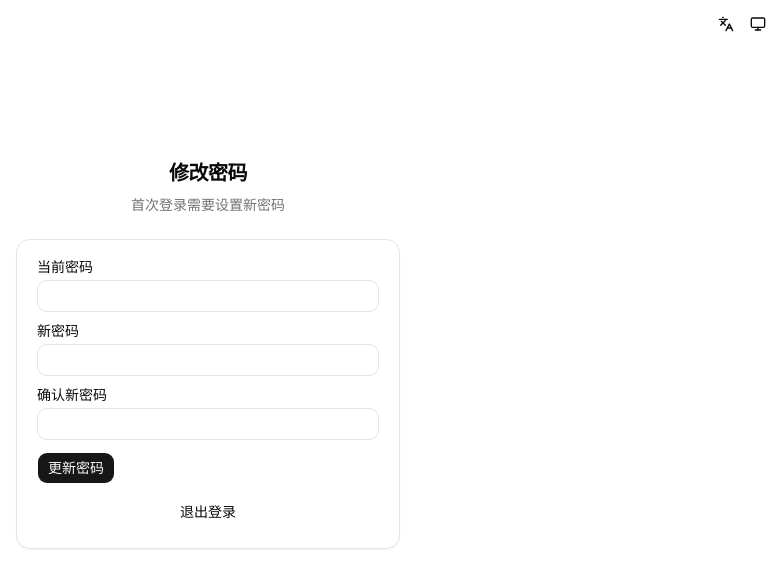
Scenario: 首登强制改密页 › 当前密码错误时留在页面并显示提示
Type "wrong-password" into the password field labelled "当前密码" at (208, 296), box [37,280,379,312]
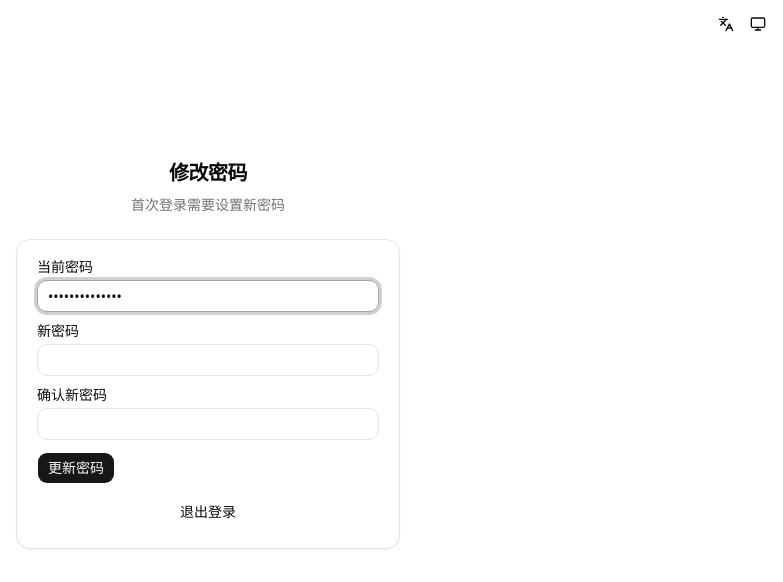
Type "brand-new-password-2026" into the password field labelled "新密码" at (208, 360), box [37,344,379,376]
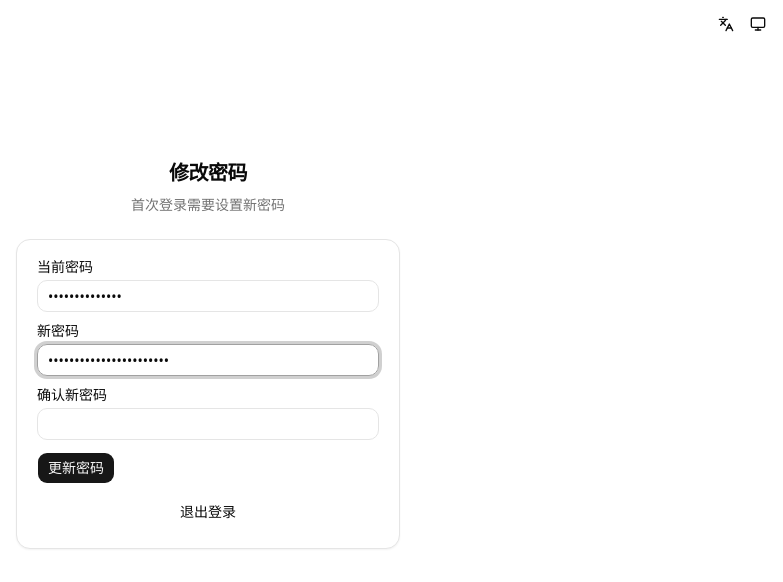
Type "brand-new-password-2026" into the password field labelled "确认新密码" at (208, 424), box [37,408,379,440]
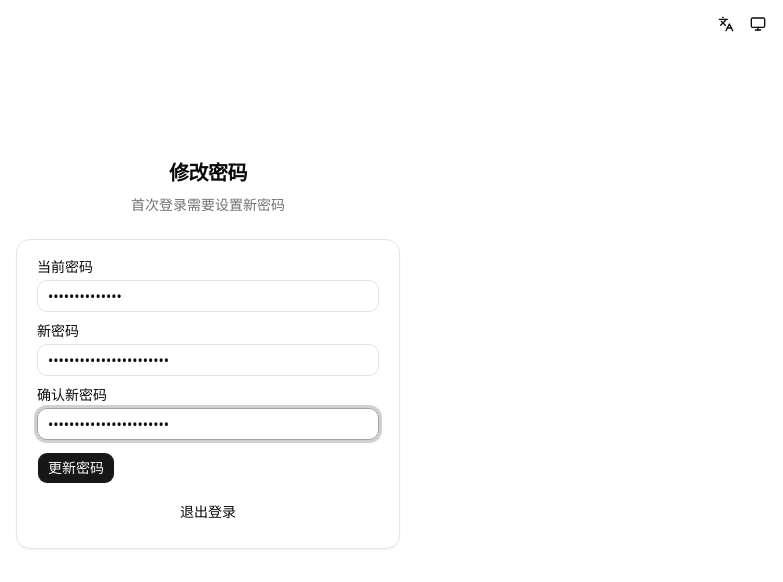
Click the button "更新密码" at (76, 468), box [37,452,115,484]
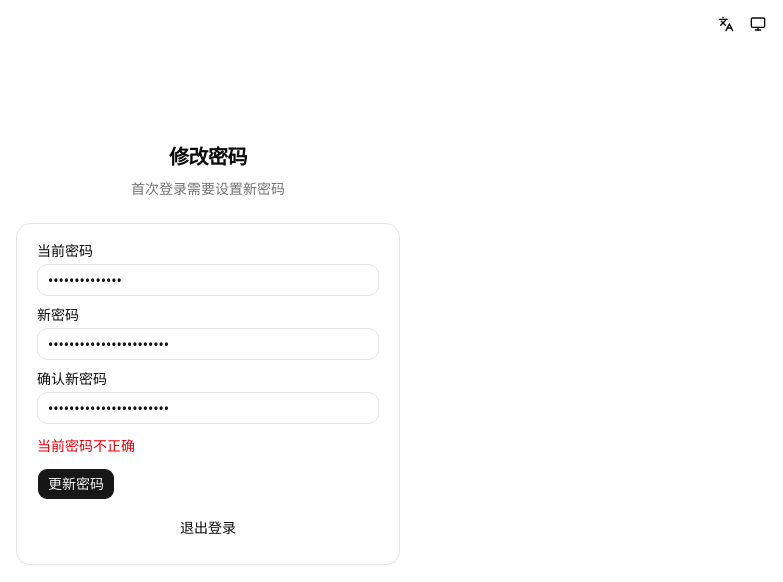
Expected: the message reads "当前密码不正确", [37,436,135,455]
